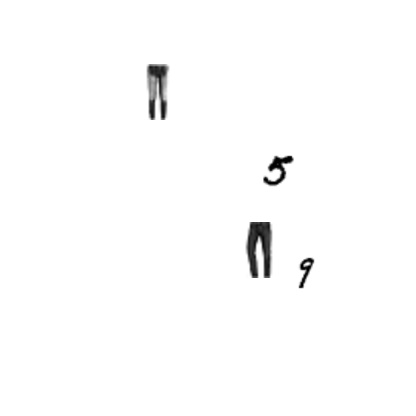5: (31, 226, 143, 338), (323, 240, 407, 324)
8: (156, 139, 240, 223)
Bag: (342, 125, 364, 147)
Shirt: (11, 157, 67, 213)
